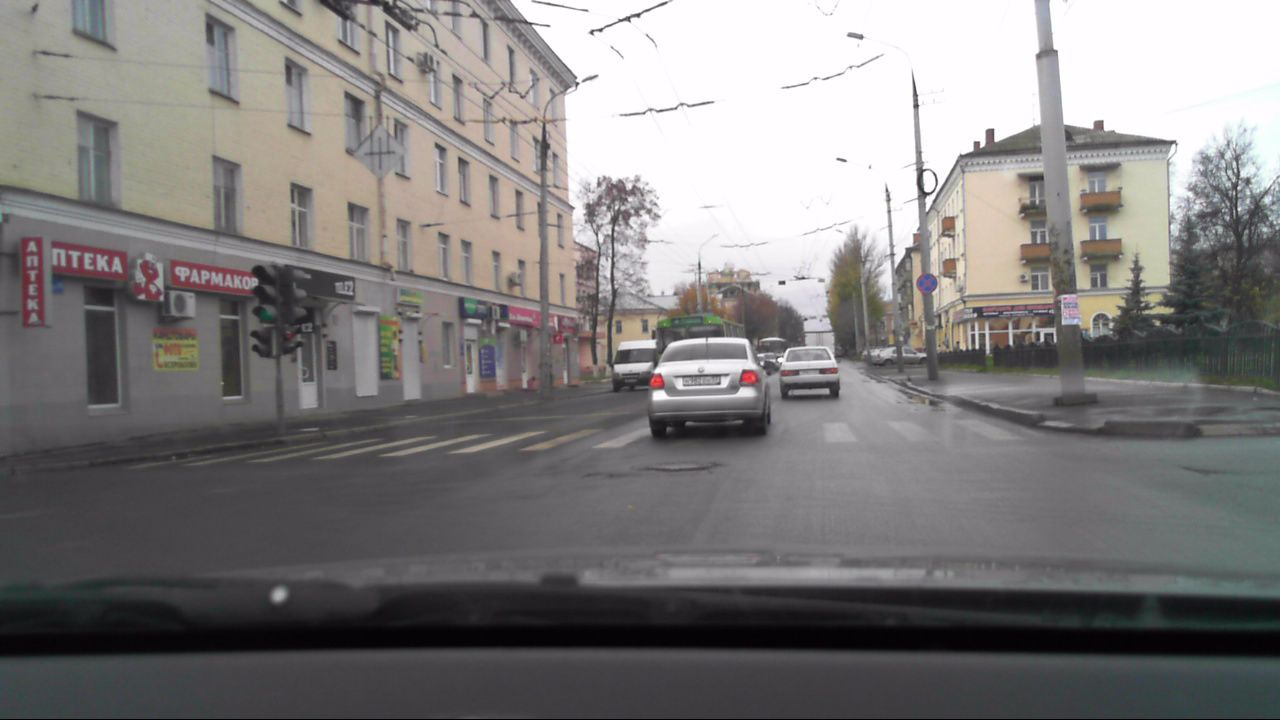No Parking: (913, 272, 940, 296)
